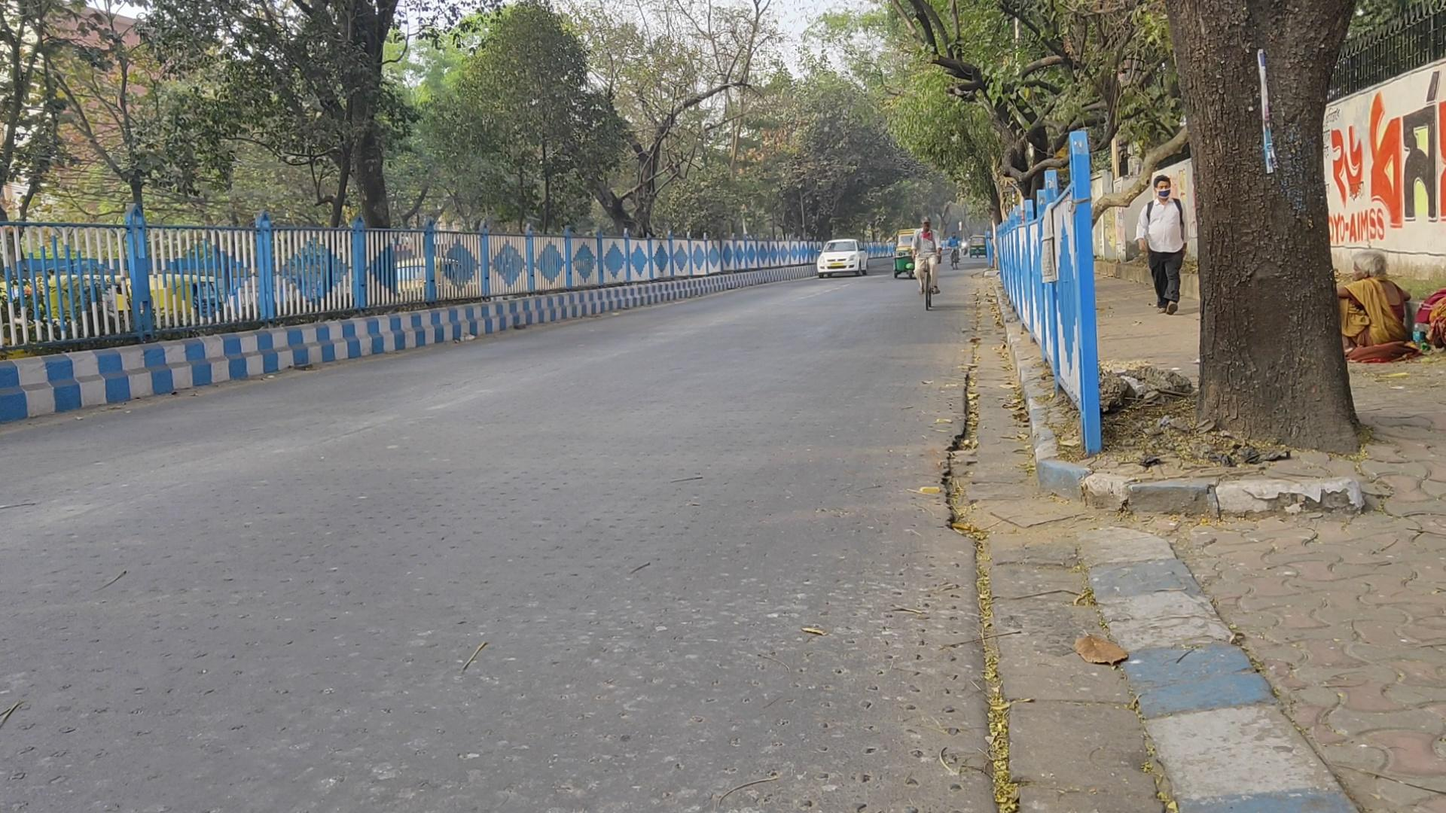Auto: (893, 228, 930, 279), (969, 233, 987, 260)
bike: (911, 216, 941, 311), (946, 233, 962, 270)
car: (816, 239, 870, 279)
